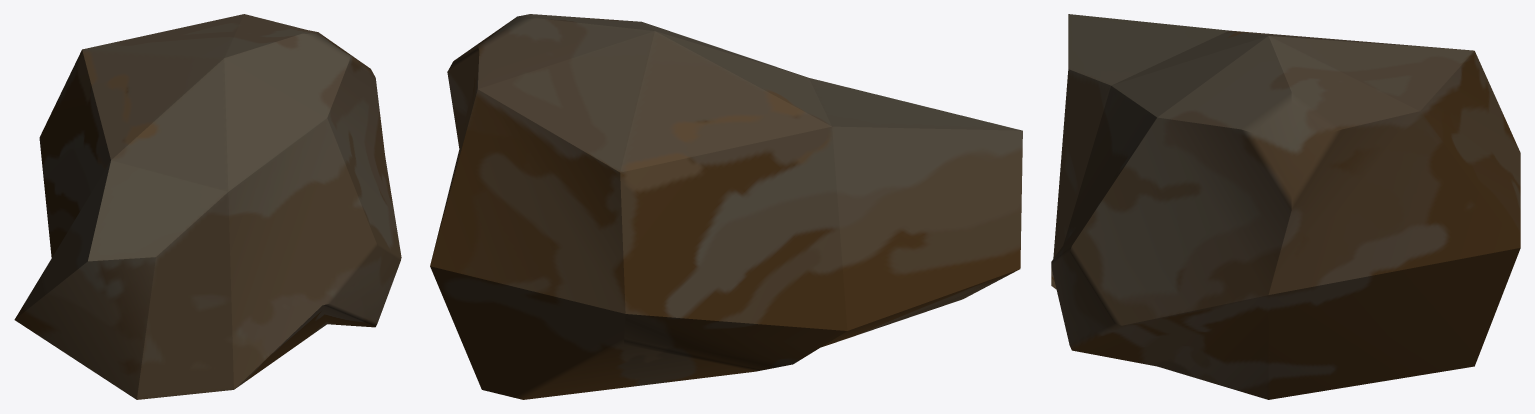
The model's file is Rock03_Model.fbx.
3 views of the same model, side by side, from view 1: azimuth 30°, elevation 25°; view 2: azimuth 150°, elevation 25°; view 3: azimuth 270°, elevation 25° (orthographic). The views are drawn at different scales.
Visible parts, largest first — view 1: pSphere2; view 2: pSphere2; view 3: pSphere2.
Part boxes in pixels (x1,y1,x2,y2): pSphere2: (14, 14, 401, 399); pSphere2: (430, 14, 1022, 399); pSphere2: (1051, 14, 1520, 399).
Size of the model in its own units: 3.19 by 1.81 by 2.59.
